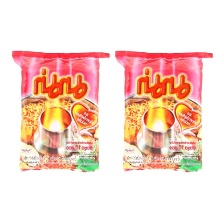snack: (7, 44, 114, 177), (111, 45, 217, 177)
